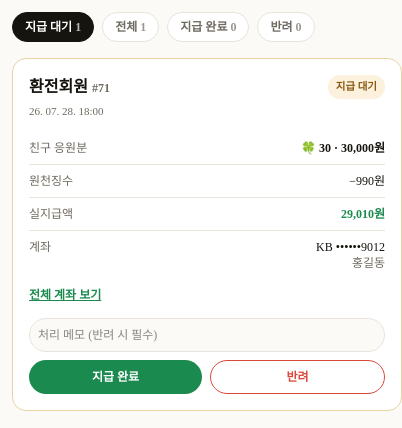
Test: CashoutQueue › 계좌는 기본 마스킹하고 명시적 클릭 뒤에만 전체 번호를 표시한다
Expected: the text "KB ••••••9012홍길동" is shown, 316,238 -> 385,270
Expected: the text "123456789012" is not shown
Click the button "전체 계좌 보기".
click(65, 294)  # box 29,286 -> 101,302
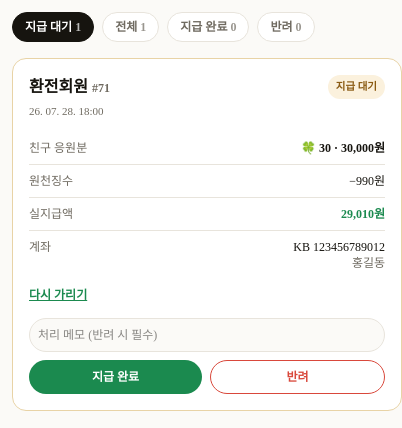
Expected: the text "KB 123456789012홍길동" is shown, 293,238 -> 385,270
Click the button "다시 가리기".
click(58, 294)  # box 29,286 -> 87,302
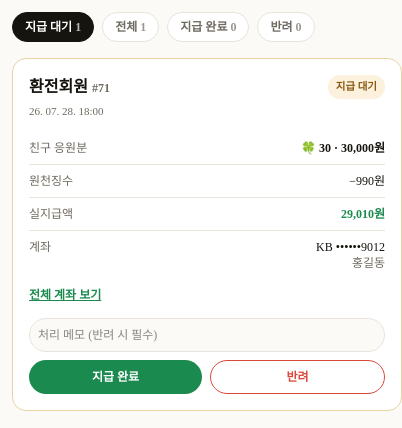
Expected: the text "123456789012" is gone
Expected: the text "KB ••••••9012홍길동" is shown, 316,238 -> 385,270
